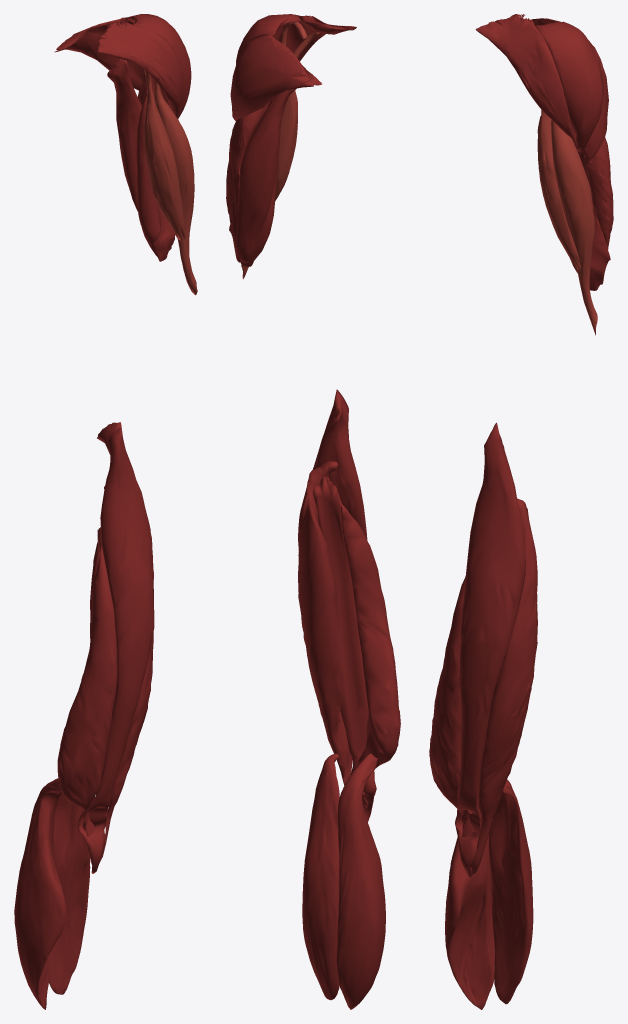
File: musculos-regiones.glb
The picture shows the model from 3 angles, left to right: view 1: azimuth 30°, elevation 25°; view 2: azimuth 150°, elevation 25°; view 3: azimuth 330°, elevation 25°; orthographic projection. The views are drawn at different scales.
Visible parts, largest first — view 1: quadriceps_femoris_left__recto_femoral, quadriceps_femoris_left__vasto_medial, gastrocnemius_left__cabeza_medial, gastrocnemius_left__cabeza_lateral, deltoid_left__clavicular, biceps_brachii_left__cabeza_corta, biceps_brachii_left__cabeza_larga, triceps_brachii_left__cabeza_larga, triceps_brachii_left__cabeza_medial, quadriceps_femoris_left__vasto_lateral, deltoid_left__espinal, deltoid_left__acromial; view 2: gastrocnemius_left__cabeza_medial, quadriceps_femoris_left__vasto_lateral, quadriceps_femoris_left__vasto_medial, gastrocnemius_left__cabeza_lateral, quadriceps_femoris_left__vasto_intermedio, triceps_brachii_left__cabeza_larga, deltoid_left__espinal, quadriceps_femoris_left__recto_femoral, triceps_brachii_left__cabeza_lateral, biceps_brachii_left__cabeza_corta, deltoid_left__clavicular, deltoid_left__acromial (+1 smaller); view 3: quadriceps_femoris_left__recto_femoral, quadriceps_femoris_left__vasto_lateral, gastrocnemius_left__cabeza_lateral, gastrocnemius_left__cabeza_medial, quadriceps_femoris_left__vasto_medial, deltoid_left__clavicular, deltoid_left__acromial, biceps_brachii_left__cabeza_larga, biceps_brachii_left__cabeza_corta, triceps_brachii_left__cabeza_lateral, deltoid_left__espinal, triceps_brachii_left__cabeza_medial.
Boxes of the visible parts, left/top/right/bottom form: quadriceps_femoris_left__recto_femoral: left=78, top=422, right=154, bottom=873; quadriceps_femoris_left__vasto_medial: left=57, top=527, right=117, bottom=836; gastrocnemius_left__cabeza_medial: left=14, top=778, right=66, bottom=1009; gastrocnemius_left__cabeza_lateral: left=47, top=792, right=90, bottom=994; deltoid_left__clavicular: left=98, top=21, right=182, bottom=116; biceps_brachii_left__cabeza_corta: left=143, top=69, right=185, bottom=240; biceps_brachii_left__cabeza_larga: left=154, top=80, right=197, bottom=295; triceps_brachii_left__cabeza_larga: left=107, top=58, right=141, bottom=211; triceps_brachii_left__cabeza_medial: left=136, top=90, right=174, bottom=261; quadriceps_femoris_left__vasto_lateral: left=90, top=485, right=153, bottom=862; deltoid_left__espinal: left=54, top=17, right=168, bottom=104; deltoid_left__acromial: left=126, top=14, right=191, bottom=118; gastrocnemius_left__cabeza_medial: left=336, top=753, right=385, bottom=1009; quadriceps_femoris_left__vasto_lateral: left=298, top=461, right=352, bottom=785; quadriceps_femoris_left__vasto_medial: left=339, top=502, right=400, bottom=806; gastrocnemius_left__cabeza_lateral: left=302, top=753, right=339, bottom=1000; quadriceps_femoris_left__vasto_intermedio: left=312, top=476, right=368, bottom=808; triceps_brachii_left__cabeza_larga: left=235, top=88, right=296, bottom=263; deltoid_left__espinal: left=230, top=33, right=321, bottom=120; quadriceps_femoris_left__recto_femoral: left=312, top=389, right=376, bottom=822; triceps_brachii_left__cabeza_lateral: left=226, top=102, right=269, bottom=262; biceps_brachii_left__cabeza_corta: left=275, top=32, right=319, bottom=200; deltoid_left__clavicular: left=279, top=14, right=356, bottom=61; deltoid_left__acromial: left=236, top=14, right=300, bottom=64; quadriceps_femoris_left__recto_femoral: left=455, top=422, right=525, bottom=877; quadriceps_femoris_left__vasto_lateral: left=471, top=498, right=537, bottom=875; gastrocnemius_left__cabeza_lateral: left=488, top=779, right=533, bottom=1004; gastrocnemius_left__cabeza_medial: left=445, top=814, right=494, bottom=1009; quadriceps_femoris_left__vasto_medial: left=429, top=576, right=473, bottom=836; deltoid_left__clavicular: left=475, top=14, right=577, bottom=150; deltoid_left__acromial: left=535, top=21, right=603, bottom=152; biceps_brachii_left__cabeza_larga: left=551, top=120, right=597, bottom=335; biceps_brachii_left__cabeza_corta: left=537, top=110, right=580, bottom=271; triceps_brachii_left__cabeza_lateral: left=577, top=137, right=613, bottom=284; deltoid_left__espinal: left=532, top=18, right=608, bottom=163; triceps_brachii_left__cabeza_medial: left=570, top=204, right=610, bottom=290.
Bounding box in the file's own units: 0.2081 × 1.23 × 0.1497.
